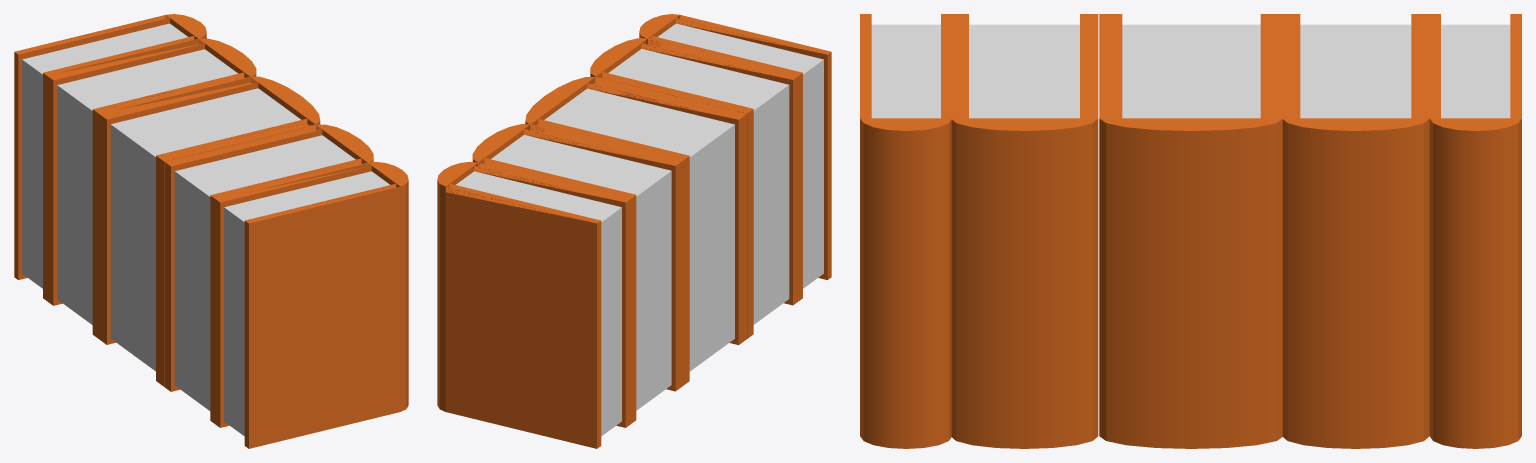
File: BookStack.fbx
3 views of the same model, side by side, from view 1: azimuth 30°, elevation 25°; view 2: azimuth 150°, elevation 25°; view 3: azimuth 270°, elevation 25° (orthographic). The views are drawn at different scales.
Visible parts, largest first — view 1: BookThin.001, BookThick.001, BookMedium.001, BookMedium.002, BookThin.002; view 2: BookThin.002, BookThick.001, BookMedium.002, BookMedium.001, BookThin.001; view 3: BookThick.001, BookMedium.001, BookMedium.002, BookThin.002, BookThin.001.
Boxes of the visible parts, x1,y1,x2,y2 form: BookThin.001: [216, 162, 408, 448]; BookThick.001: [98, 76, 320, 386]; BookMedium.001: [164, 124, 373, 424]; BookMedium.002: [47, 38, 256, 338]; BookThin.002: [14, 14, 206, 300]; BookThin.002: [437, 162, 629, 448]; BookThick.001: [525, 77, 746, 386]; BookMedium.002: [472, 124, 681, 424]; BookMedium.001: [590, 38, 799, 338]; BookThin.001: [639, 14, 831, 300]; BookThick.001: [1099, 14, 1282, 448]; BookMedium.001: [950, 14, 1098, 448]; BookMedium.002: [1282, 14, 1429, 448]; BookThin.002: [1429, 14, 1521, 448]; BookThin.001: [860, 14, 952, 448].
Size of the model in its own units: 15 by 19 by 35.84.
